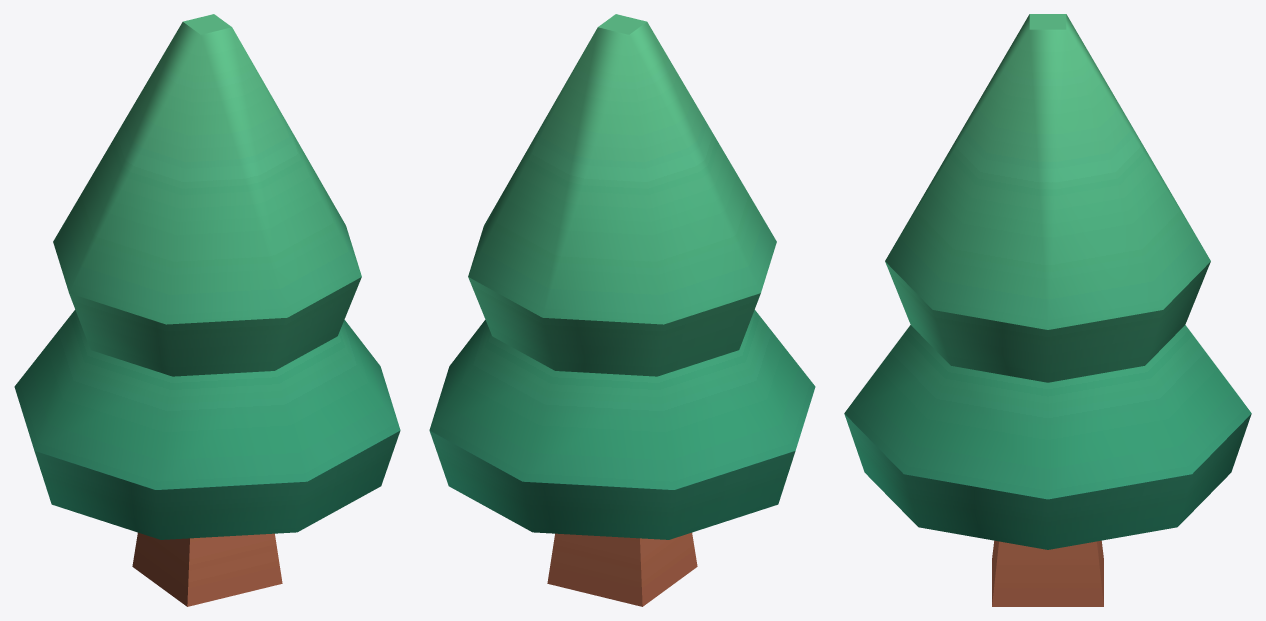
Rendered from kenney-tower-defense-detail-tree.glb.
3 renders of one model, left to right at view 1: azimuth 30°, elevation 25°; view 2: azimuth 150°, elevation 25°; view 3: azimuth 270°, elevation 25°, orthographic.
Parts seen in each view (by area): view 1: detail-tree; view 2: detail-tree; view 3: detail-tree.
Part boxes in pixels (box(x1,y1,x2,y2)): detail-tree: box(14, 14, 400, 606); detail-tree: box(429, 14, 815, 606); detail-tree: box(844, 14, 1251, 606).
Size of the model in its own units: 0.35 by 0.532 by 0.35.
Materials: 1 (1 with a texture image).
